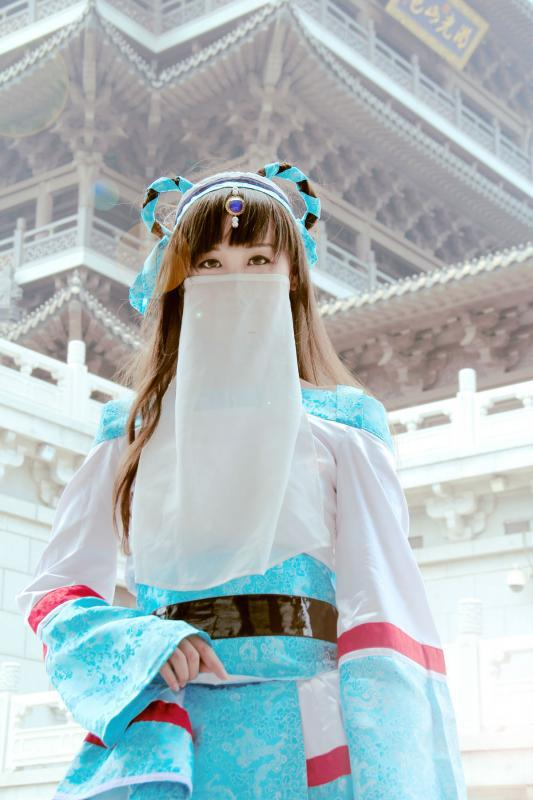OK: (193, 235, 296, 338)
